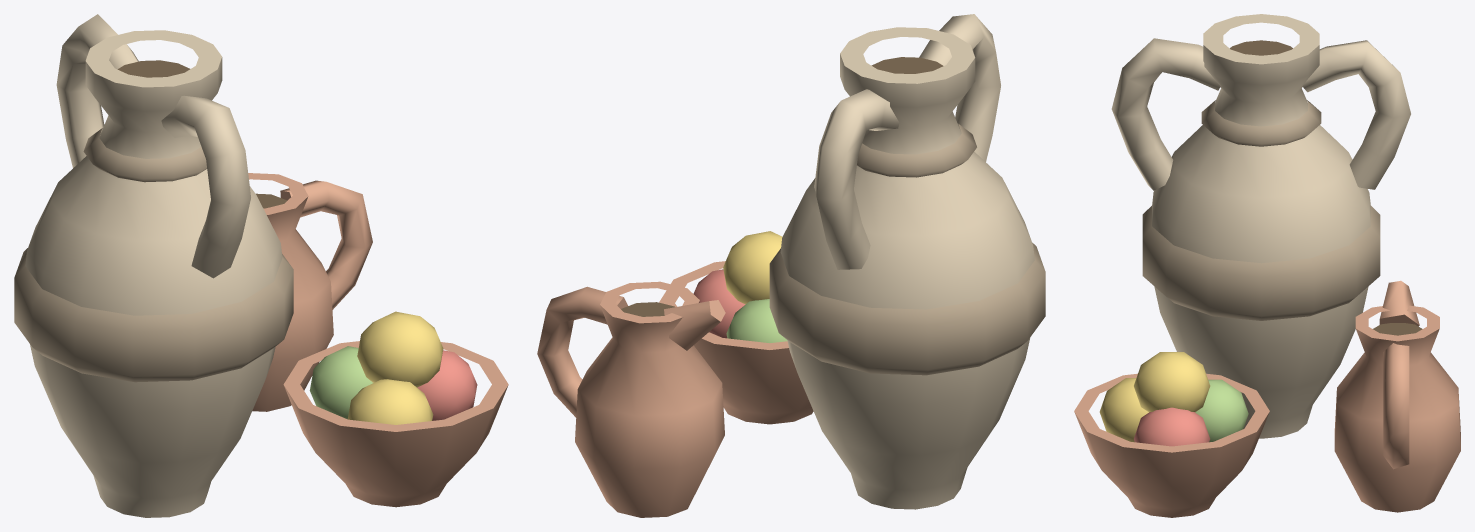
The model's file is building.pots.glb.
3 views of the same model, side by side, from view 1: azimuth 30°, elevation 25°; view 2: azimuth 150°, elevation 25°; view 3: azimuth 270°, elevation 25° (orthographic). The views are drawn at different scales.
Parts seen in each view (by area): view 1: Paint, Clay, PaintDark, FruitGold, FruitGreen, FruitRed, Door; view 2: Paint, Clay, PaintDark, FruitGold, FruitGreen, Door, FruitRed; view 3: Paint, Clay, PaintDark, FruitGold, FruitRed, FruitGreen, Door.
Part boxes in pixels (left/top/right/bottom): Paint: left=25, top=14, right=282, bottom=517; Clay: left=248, top=173, right=508, bottom=507; PaintDark: left=14, top=128, right=293, bottom=382; FruitGold: left=347, top=311, right=443, bottom=424; FruitGreen: left=309, top=346, right=372, bottom=419; FruitRed: left=417, top=350, right=477, bottom=420; Door: left=117, top=60, right=286, bottom=208; Paint: left=780, top=14, right=1034, bottom=509; Clay: left=537, top=261, right=813, bottom=517; PaintDark: left=769, top=124, right=1045, bottom=375; FruitGold: left=723, top=231, right=782, bottom=304; FruitGreen: left=726, top=299, right=787, bottom=343; Door: left=621, top=57, right=943, bottom=316; FruitRed: left=693, top=269, right=745, bottom=338; Paint: left=1111, top=14, right=1410, bottom=438; Clay: left=1074, top=280, right=1460, bottom=517; PaintDark: left=1142, top=100, right=1380, bottom=320; FruitGold: left=1099, top=352, right=1210, bottom=442; FruitRed: left=1134, top=407, right=1210, bottom=446; FruitGreen: left=1195, top=379, right=1248, bottom=442; Door: left=1230, top=40, right=1422, bottom=335.
Size of the model in its own units: 0.4907 by 0.492 by 0.4542.
